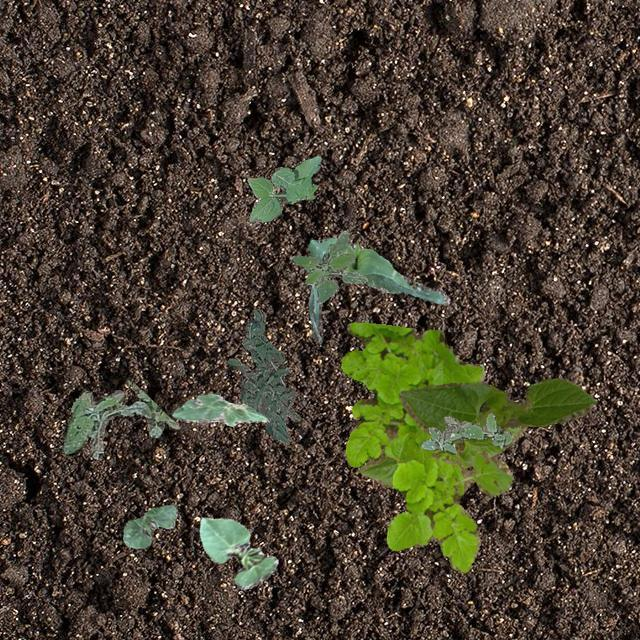crop: (307, 237, 448, 341), (398, 376, 596, 441), (357, 424, 526, 486), (198, 516, 276, 588), (170, 392, 266, 426), (122, 504, 176, 546)
weed: (340, 322, 512, 572), (226, 307, 298, 443), (60, 378, 180, 458), (290, 230, 366, 302), (247, 154, 321, 220), (420, 412, 512, 452)
